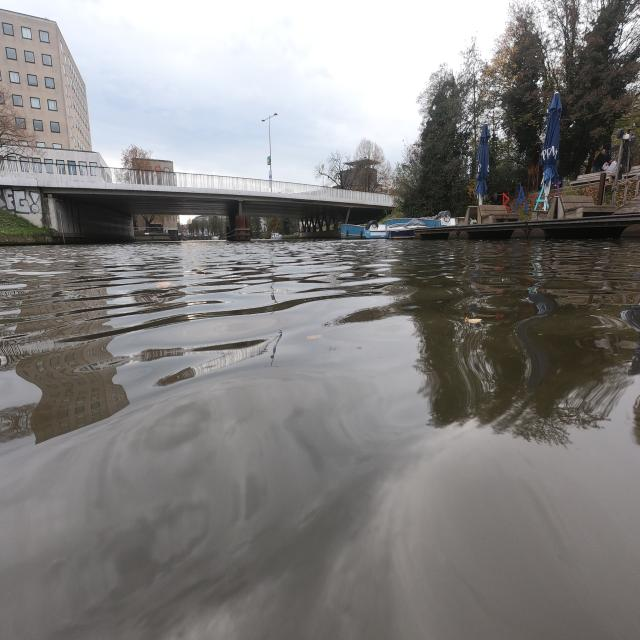dock: (415, 205, 640, 240)
grass: (2, 210, 54, 244)
sky: (0, 4, 510, 182)
tree: (396, 14, 550, 216), (558, 12, 638, 176)
wall: (0, 185, 133, 243)
water: (0, 240, 640, 640)
